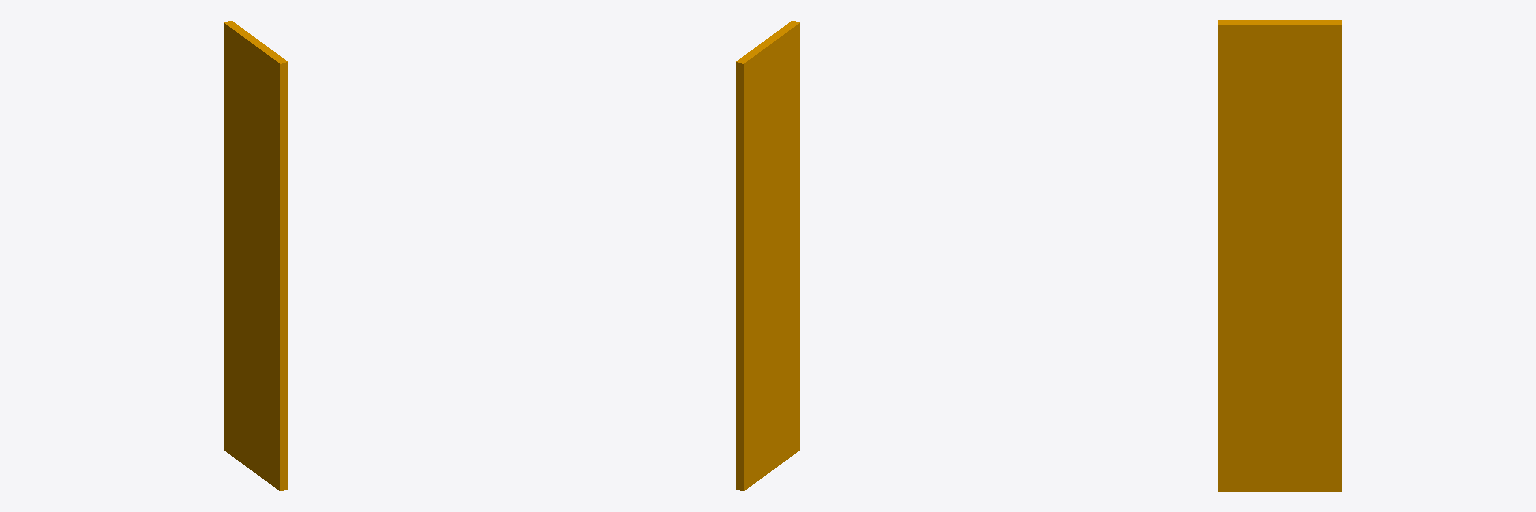
The robot description file, URDF, robot "box":
<?xml version='1.0' encoding='UTF-8'?>
<robot name="box">
  <link name="base_link">
    <inertial>
      <origin xyz="0.0 0.0 1.0" rpy="0.0 -0.0 0.0"/>
      <mass value="1.0"/>
      <inertia ixx="1.0" ixy="0.0" ixz="0.0" iyy="1.0" iyz="0.0" izz="1.0"/>
    </inertial>
    <visual name="base_link_visual">
      <geometry>
        <box size="0.1 1.2 5.0"/>
      </geometry>
      <origin xyz="0 0 1.0" rpy="0 0 0"/>
    </visual>
    <collision name="base_link_collision">
      <geometry>
        <box size="0.1 1.2 5.0"/>
      </geometry>
      <origin xyz="0 0 1.0" rpy="0 0 0"/>
    </collision>
  </link>
</robot>

--- Render facts (derived) ---
The picture shows the robot from 3 angles, left to right: view 1: azimuth 30°, elevation 25°; view 2: azimuth 150°, elevation 25°; view 3: azimuth 270°, elevation 25°; orthographic projection.
Robot: box — 1 links, 0 joints (none); root link base_link; default pose: all joints at 0.
Links seen in each view (by area): view 1: base_link; view 2: base_link; view 3: base_link.
Link boxes in pixels (x1=…): base_link: x1=224, y1=21, x2=287, y2=490; base_link: x1=736, y1=21, x2=799, y2=490; base_link: x1=1218, y1=20, x2=1341, y2=491.
Size in the robot's own frame: 0.1 by 1.2 by 5 metres.
Geometry: primitives only (box / cylinder / sphere), no mesh files.